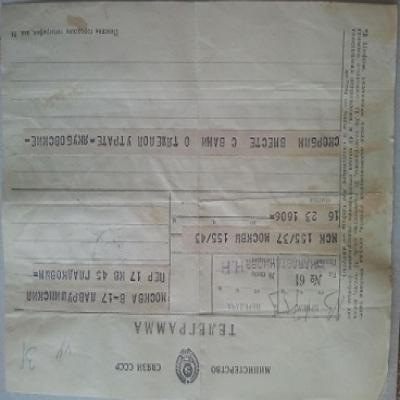document: (0, 0, 385, 400)
